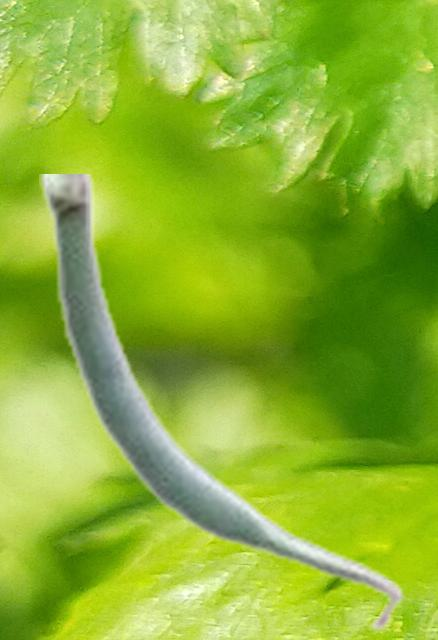french_bean: (39, 174, 404, 634)
